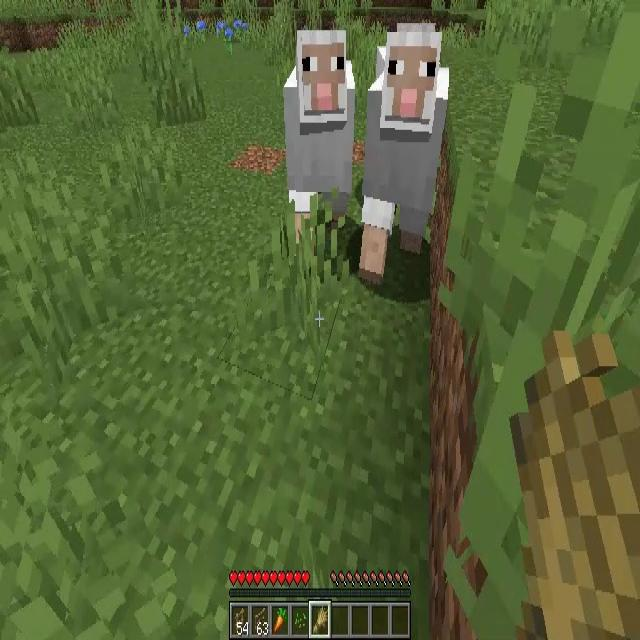flower: (224, 28, 233, 48), (196, 20, 207, 36), (182, 25, 191, 41), (217, 22, 225, 38), (235, 20, 242, 38)
sheep: (359, 23, 449, 275), (285, 29, 352, 230)
